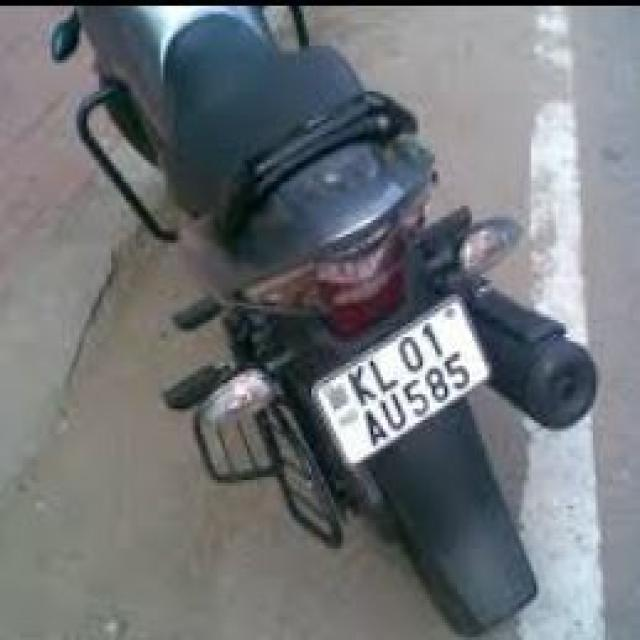number plate: (309, 288, 492, 466)
